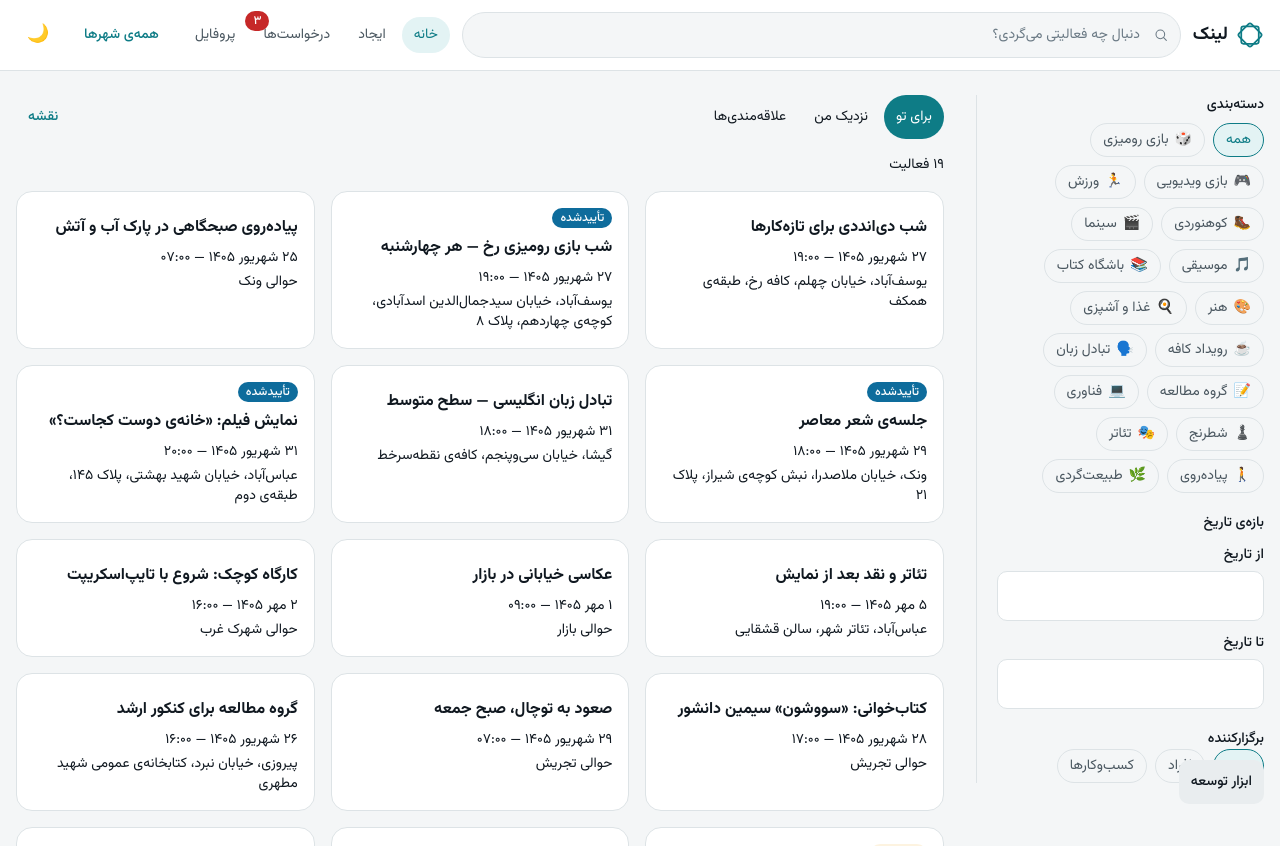
it: activity detail › ⚠️ INV-2 and INV-5 hold on the detail view too
The image size is (1280, 846).
Click the link that starts with "پیاده‌روی صبحگاهی در پارک آب و آتش" at (165, 250), box [33,208,298,292]
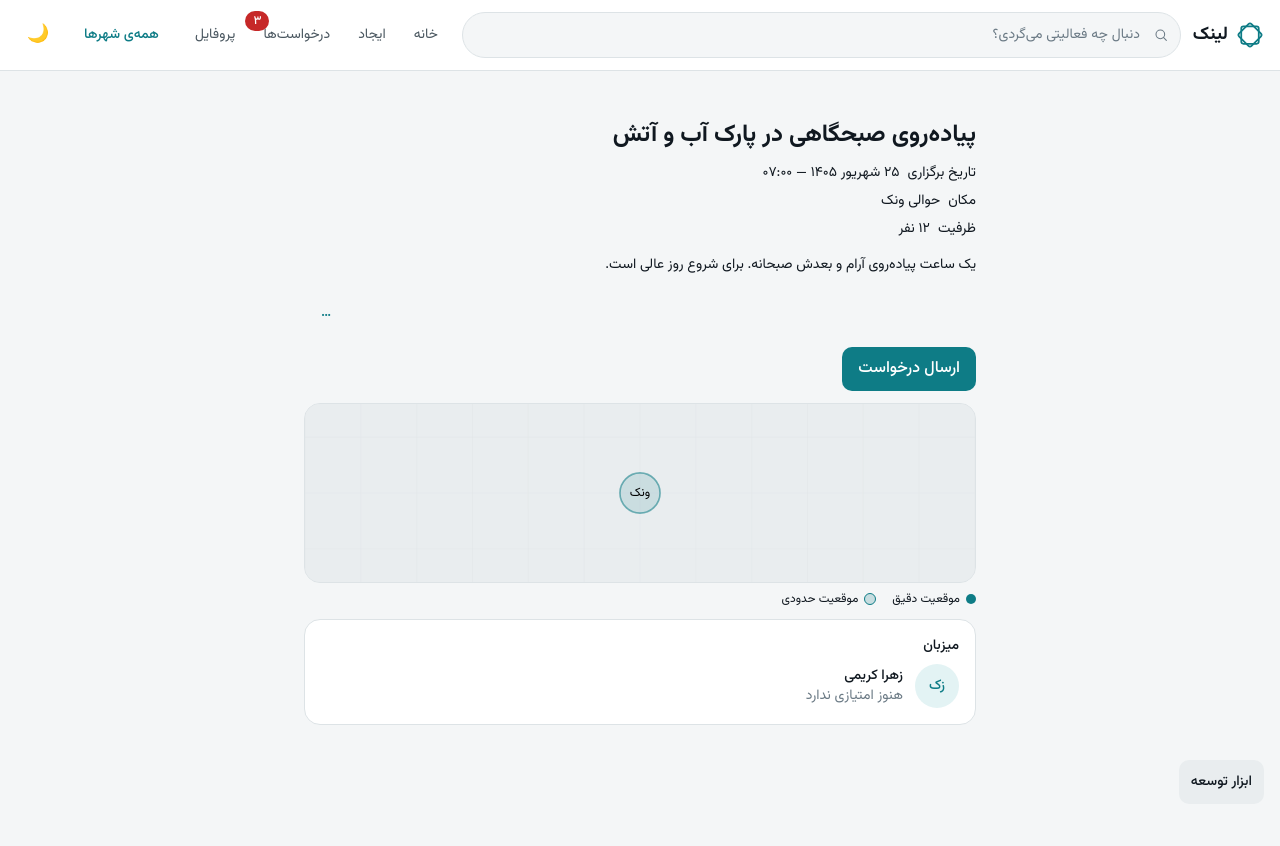
Expected: the heading "پیاده‌روی صبحگاهی در پارک آب و آتش" is shown, [613,116,976,154]
Expected: the link "یوسف‌آباد، خیابان چهلم، کافه رخ، طبقه‌ی همکف" is gone
